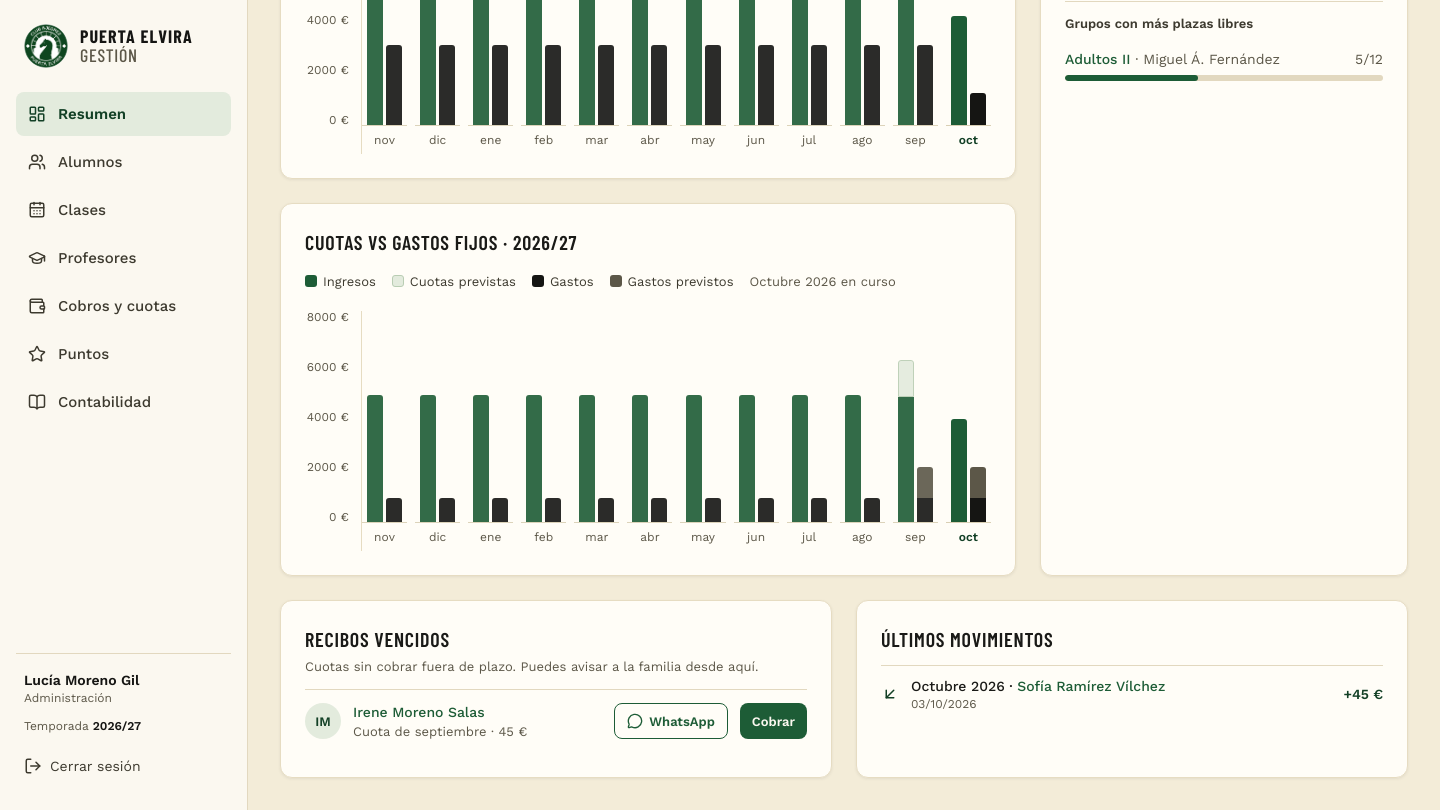
Resumen › opens a student's sheet over the summary, which stays put, with a way to go to «Alumnos»
(page scrolled)
Click the link "Irene Moreno Salas": coordinates (419, 712) [353, 704, 485, 720]
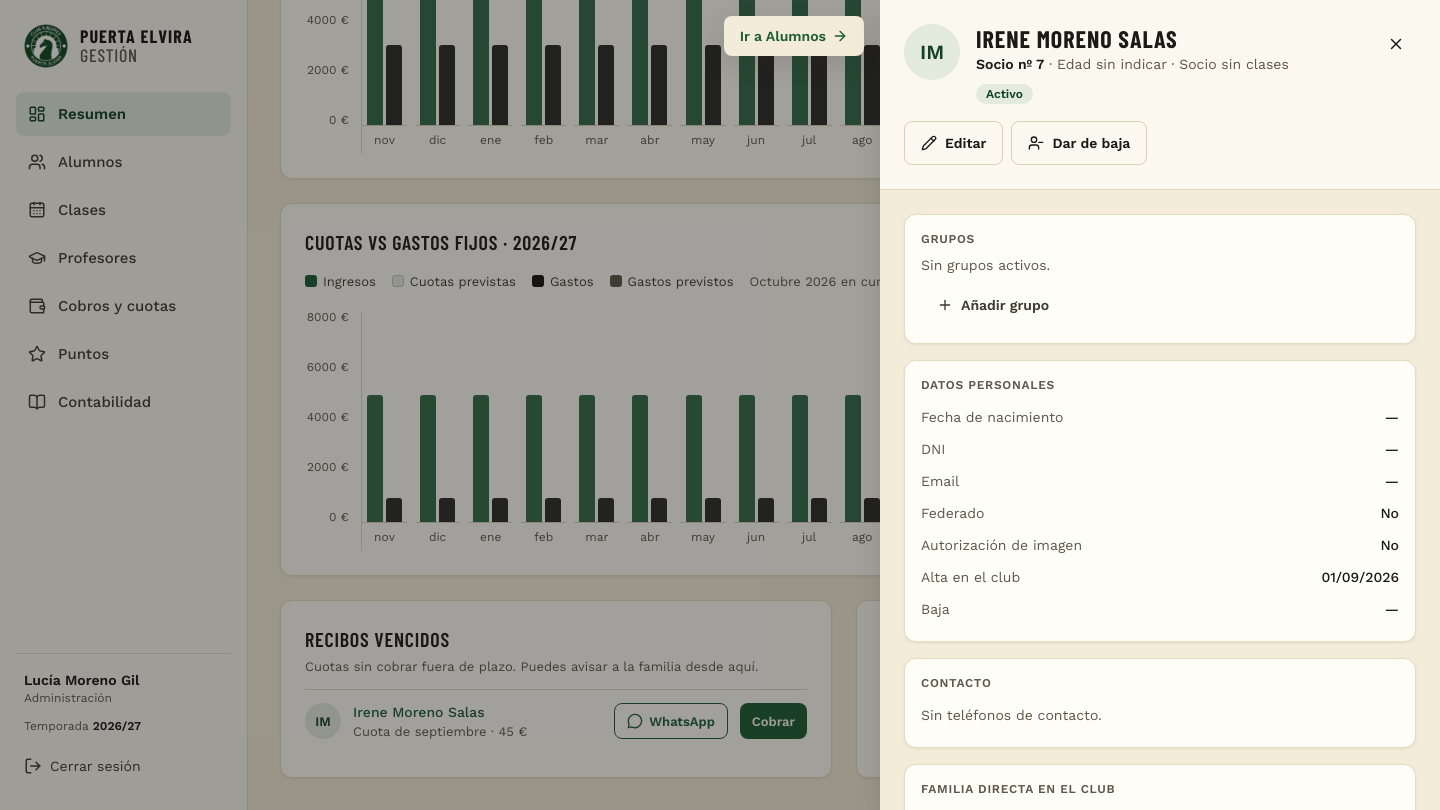
Check: the dialog "Irene Moreno Salas" is shown, box [880, 0, 1439, 809]
# Pulsar en la zona gris, fuera del botón, cierra la ficha y se sigue en el resumen.
Click the element with test id "fondo-ficha": coordinates (720, 405) [0, 0, 1439, 809]
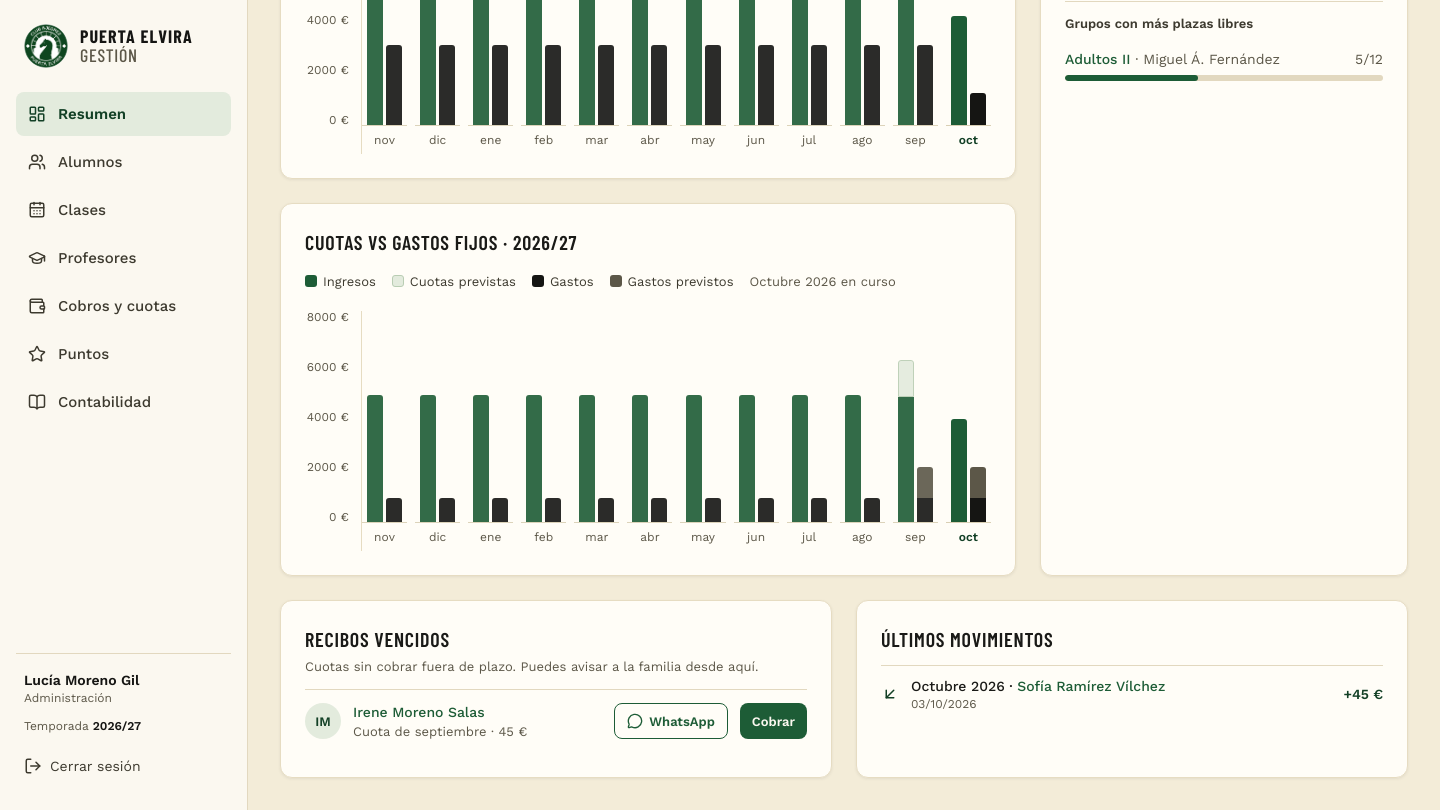
Check: the dialog is gone
Click the link "Irene Moreno Salas": coordinates (419, 712) [353, 704, 485, 720]
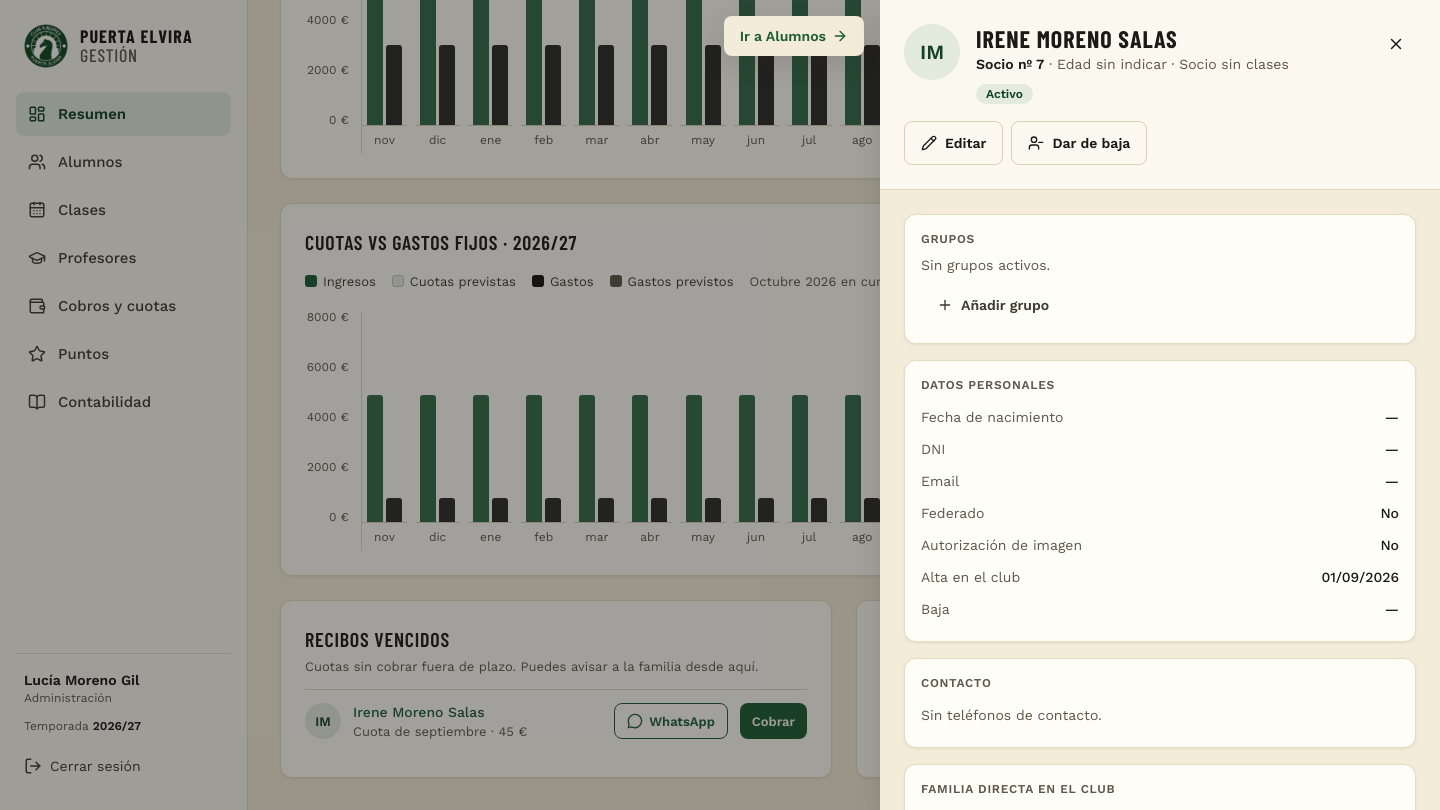
Check: the dialog "Irene Moreno Salas" is shown, box [880, 0, 1439, 809]
Click the link "Ir a Alumnos": coordinates (794, 36) [724, 16, 864, 56]
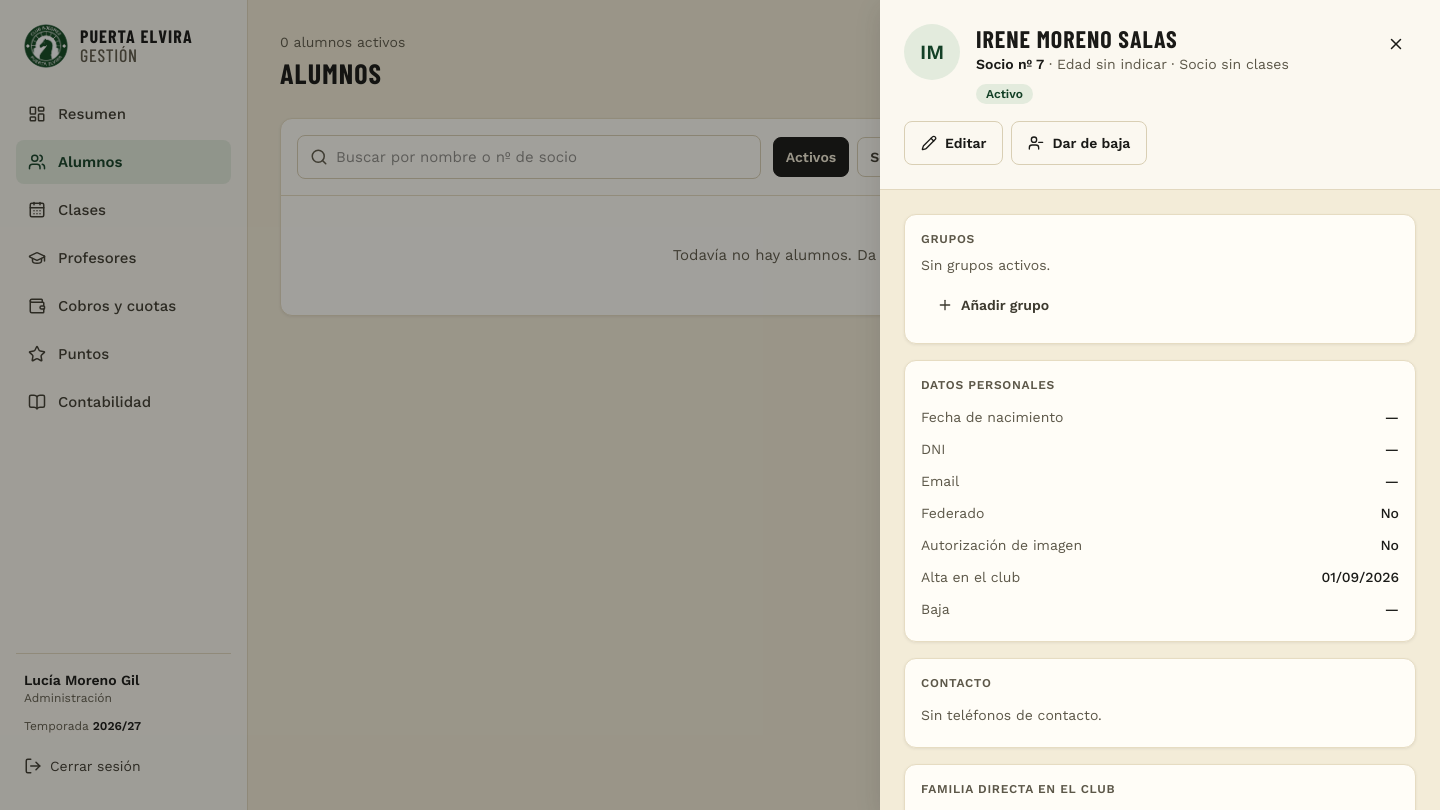
Check: the dialog "Irene Moreno Salas" is shown, box [880, 0, 1439, 809]
Check: the heading "Alumnos" is shown, box [280, 56, 382, 90]
